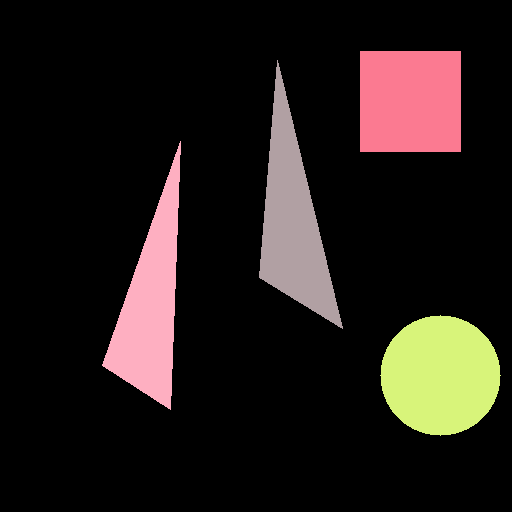circle: (380, 315, 500, 435)
square: (360, 51, 460, 151)
triangle: (259, 60, 342, 328), (102, 141, 180, 409)
